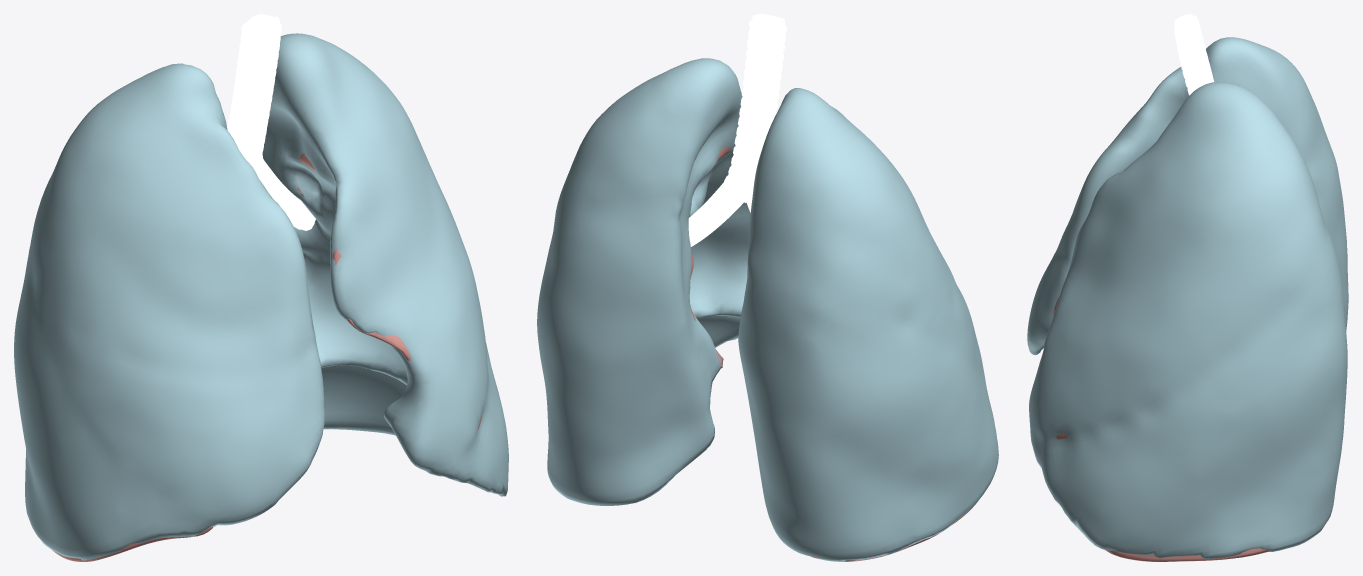
Rendered from respiratory.glb.
3 renders of one model, left to right at view 1: azimuth 30°, elevation 25°; view 2: azimuth 150°, elevation 25°; view 3: azimuth 270°, elevation 25°, orthographic. The views are drawn at different scales.
Visible parts, largest first — view 1: Pleura, Trachea, Left main bronchus, Superior lobe of left lung; view 2: Pleura, Trachea, Left main bronchus; view 3: Pleura, Trachea, Inferior lobe of left lung.
Part boxes in pixels (x1,y1,x2,y2): Pleura: [14, 33, 508, 560]; Trachea: [227, 14, 281, 166]; Left main bronchus: [252, 159, 312, 229]; Superior lobe of left lung: [285, 153, 482, 429]; Pleura: [537, 58, 998, 561]; Trachea: [724, 14, 786, 202]; Left main bronchus: [688, 167, 743, 246]; Pleura: [1027, 37, 1348, 559]; Trachea: [1174, 14, 1214, 95]; Inferior lobe of left lung: [1105, 548, 1269, 561].
Bounding box in the file's own units: 0.2634 × 0.2936 × 0.1882.
